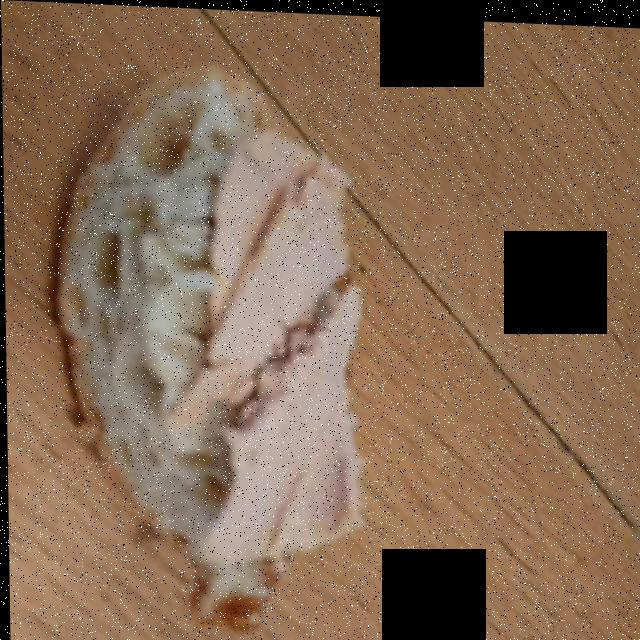bread-white: (67, 71, 277, 603)
